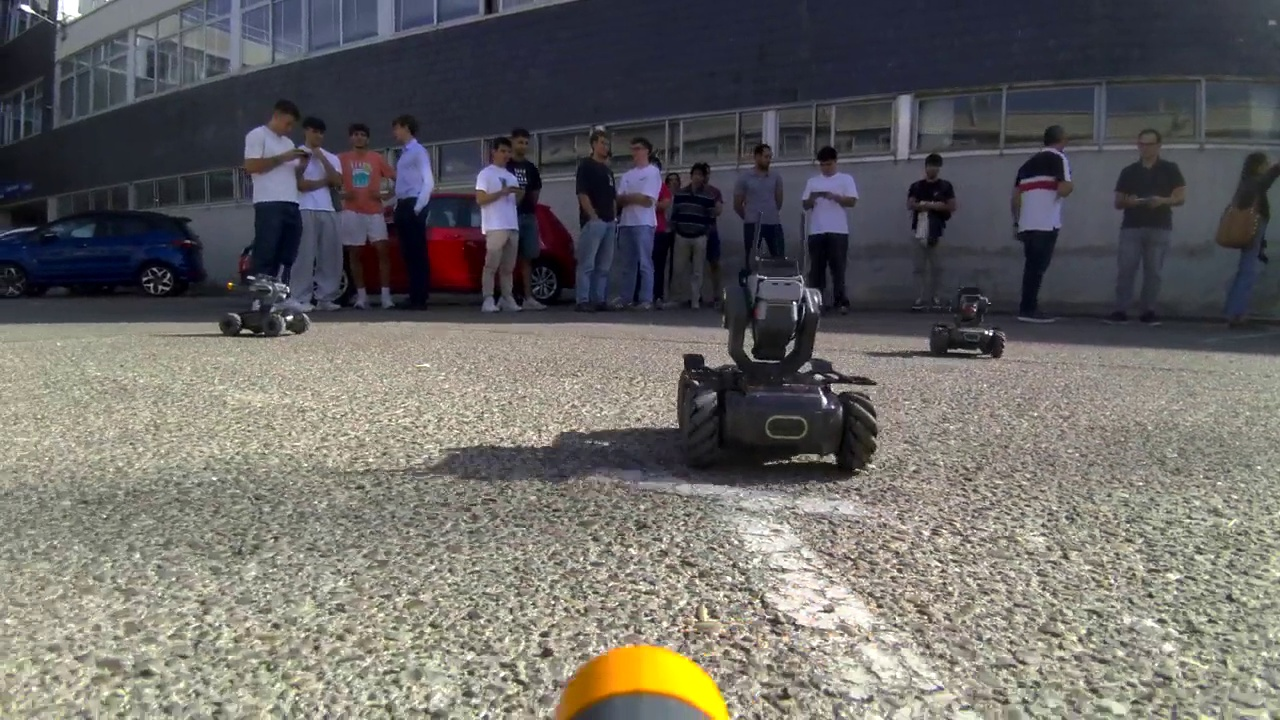robot: (682, 231, 879, 474), (929, 277, 1009, 361), (222, 267, 308, 338)
